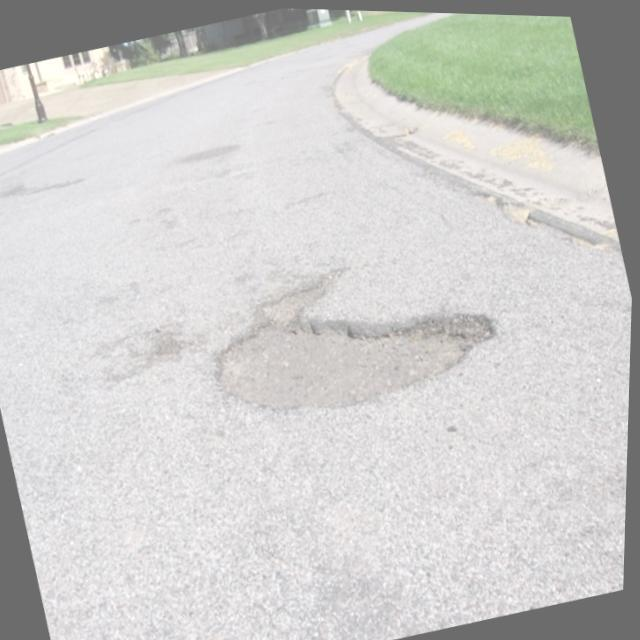Pothole: (205, 269, 498, 414)
